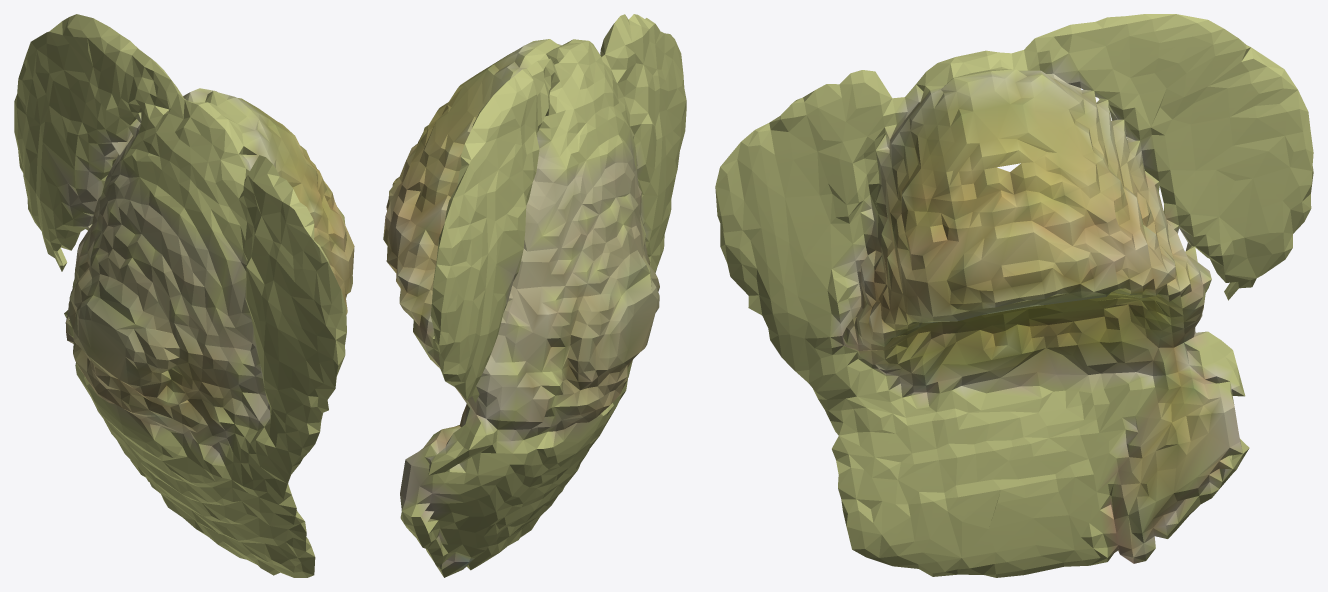
Rendered from acid_cup.glb.
3 views of the same model, side by side, from view 1: azimuth 30°, elevation 25°; view 2: azimuth 150°, elevation 25°; view 3: azimuth 270°, elevation 25° (orthographic). The views are drawn at different scales.
Parts seen in each view (by area): view 1: world; view 2: world; view 3: world.
Part boxes in pixels (<box>): world: <box>14,14,354,577</box>; world: <box>383,14,686,577</box>; world: <box>715,14,1313,577</box>.
Bounding box in the file's own units: 0.1205 × 0.25 × 0.2547.
